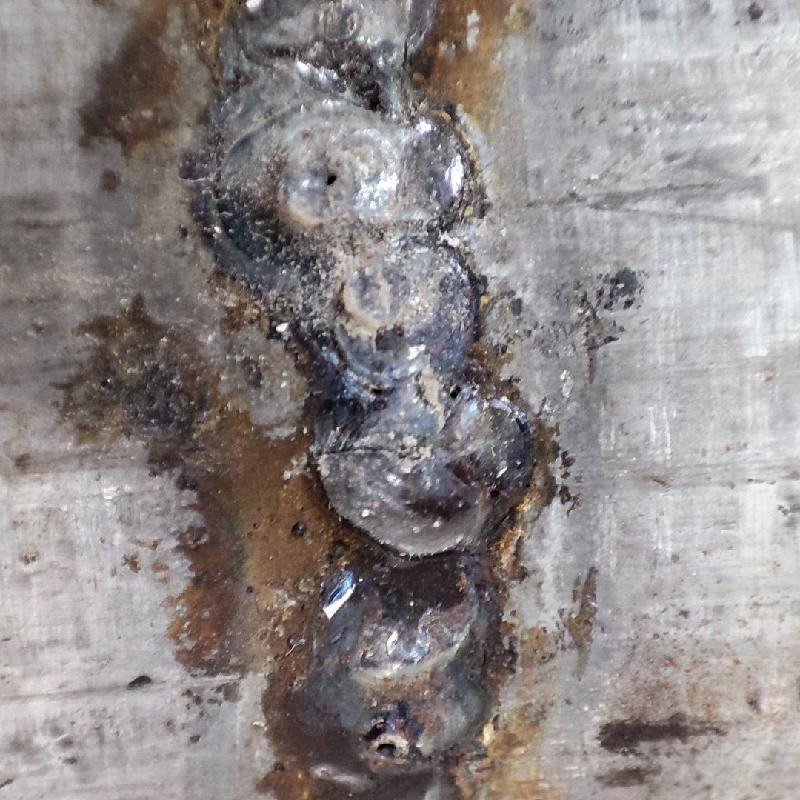Not_fully_soldered: (203, 5, 471, 530)
Surface_pores: (303, 155, 357, 205)
